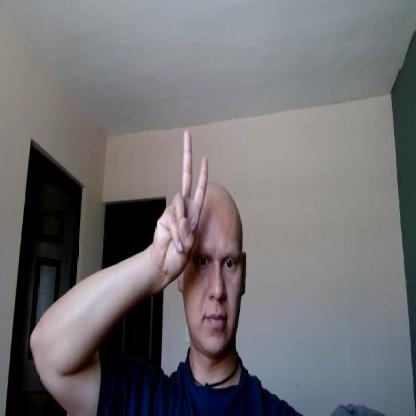V: (154, 126, 209, 280)
